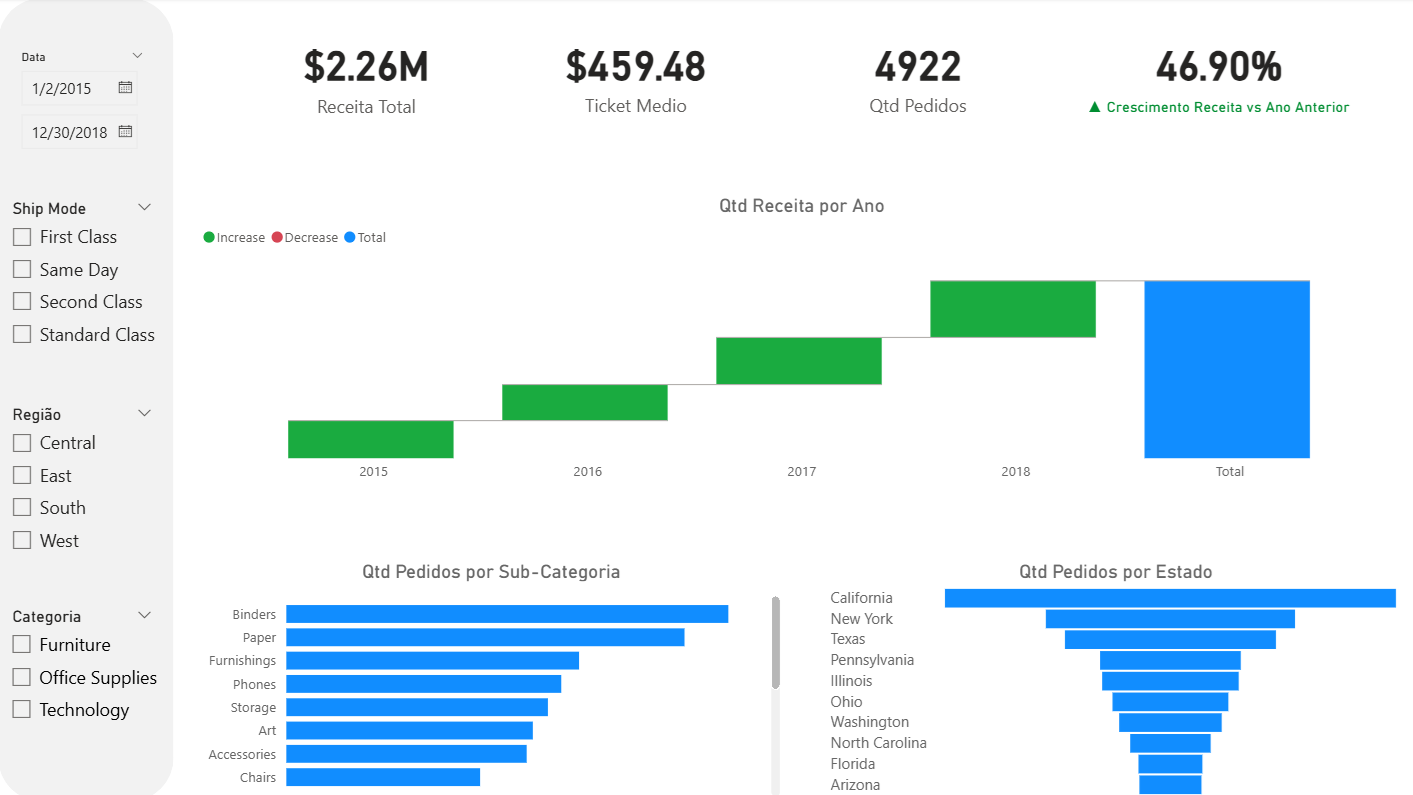

Layout of this report page (visuals, bound fields, positions):
{"tool":"powerbi","page":{"name":"Page 1","canvas":[1280,720],"ordinal":0},"visuals":[{"type":"shape","box":[0,0,157.4,719.7],"z":0},{"type":"slicer","fields":{"Values":["Calendario.Date"]},"box":[8,41.1,134.3,95.2],"z":1000},{"type":"slicer","fields":{"Values":["Cliente.Region"]},"box":[0,359.8,150.4,143.3],"z":2000},{"type":"slicer","fields":{"Values":["Produto.Category"]},"box":[0,541.3,150.4,116.3],"z":3000},{"type":"funnel","title":"Qtd Pedidos por Estado","fields":{"Category":["Cliente.State"],"Y":["Medidas.Qtd Pedidos"]},"box":[740.7,503.2,521.2,216.5],"z":5000},{"type":"barChart","title":"Qtd Pedidos por Sub-Categoria","fields":{"Y":["Medidas.Qtd Pedidos"],"Category":["Produto.Sub-Category"]},"box":[178.4,503.2,527.2,216.5],"z":6000},{"type":"card","fields":{"Values":["Medidas.Receita Total"]},"box":[200.5,0,258.6,136.3],"z":7000},{"type":"card","fields":{"Values":["Medidas.Ticket Medio"]},"box":[442,0,257.6,135.3],"z":8000},{"type":"card","fields":{"Values":["Medidas.Crescimento YoY (%)"]},"box":[966.3,7,254.6,121.3],"z":9000},{"type":"card","fields":{"Values":["Medidas.Qtd Pedidos"]},"box":[705.7,7,236.6,121.3],"z":10000},{"type":"card","fields":{"Values":["Medidas.Indicador YoY"]},"box":[970.3,78.2,245.6,41.1],"z":11000},{"type":"slicer","fields":{"Values":["fato vendas.Ship Mode"]},"box":[0,175.4,150.4,143.3],"z":11001},{"type":"waterfallChart","title":"Qtd Pedidos por Ano","fields":{"Category":["Calendario.Date.Variation.Date Hierarchy.Year"],"Y":["Medidas.Receita Total"]},"box":[178.4,175.4,1083.5,266.6],"z":11002}]}

Visuals, with their boxes on the page's 1280x720 design canvas (x1, y1, x2, y2). These are canvas units, not pixel positions in the 1413x795 screenshot, which may show the page scaled, cropped or inside an application window:
shape: <box>0,0,157,720</box>
slicer - Calendario.Date: <box>8,41,142,136</box>
slicer - Cliente.Region: <box>0,360,150,503</box>
slicer - Produto.Category: <box>0,541,150,658</box>
"Qtd Pedidos por Estado" funnel: <box>741,503,1262,720</box>
"Qtd Pedidos por Sub-Categoria" barChart: <box>178,503,706,720</box>
card - Medidas.Receita Total: <box>200,0,459,136</box>
card - Medidas.Ticket Medio: <box>442,0,700,135</box>
card - Medidas.Crescimento YoY (%): <box>966,7,1221,128</box>
card - Medidas.Qtd Pedidos: <box>706,7,942,128</box>
card - Medidas.Indicador YoY: <box>970,78,1216,119</box>
slicer - fato vendas.Ship Mode: <box>0,175,150,319</box>
"Qtd Pedidos por Ano" waterfallChart: <box>178,175,1262,442</box>
